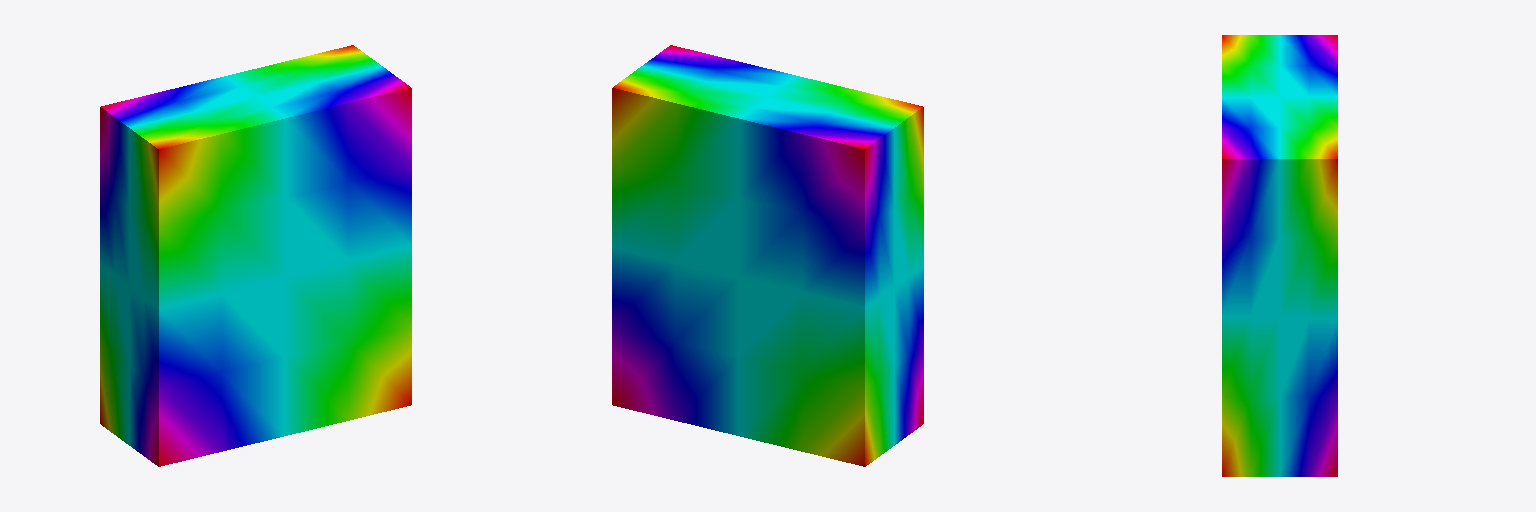
3 renders of one model, left to right at view 1: azimuth 30°, elevation 25°; view 2: azimuth 150°, elevation 25°; view 3: azimuth 270°, elevation 25°, orthographic.
Bounding box in the file's own units: 10 × 12 × 4.
Materials: 1 (1 with a texture image).